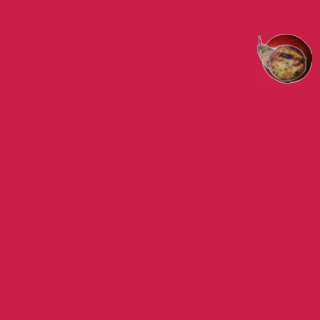Apple Braeburn: (261, 33, 311, 83)
Pear Abate: (256, 33, 306, 83)
